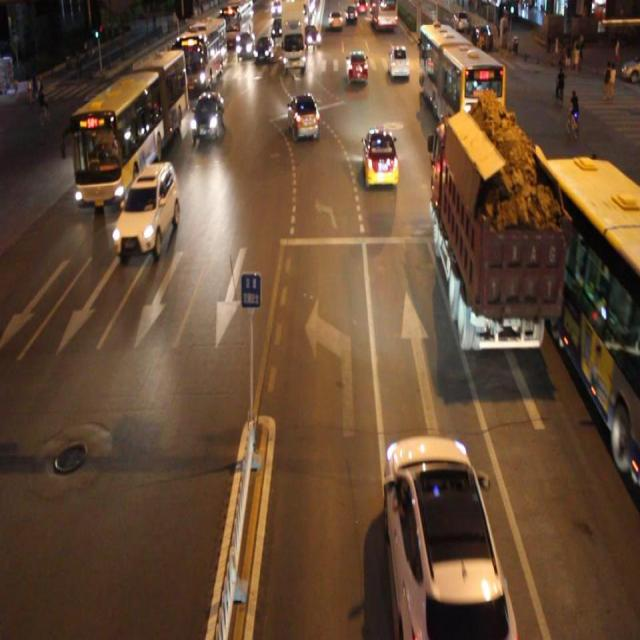bus: (434, 115, 551, 347)
car: (382, 432, 516, 640), (111, 163, 179, 255), (362, 126, 399, 189), (74, 87, 113, 137), (286, 92, 320, 142), (190, 92, 224, 139), (345, 50, 368, 85)
van: (541, 156, 640, 492), (73, 49, 184, 203), (419, 22, 504, 133)
